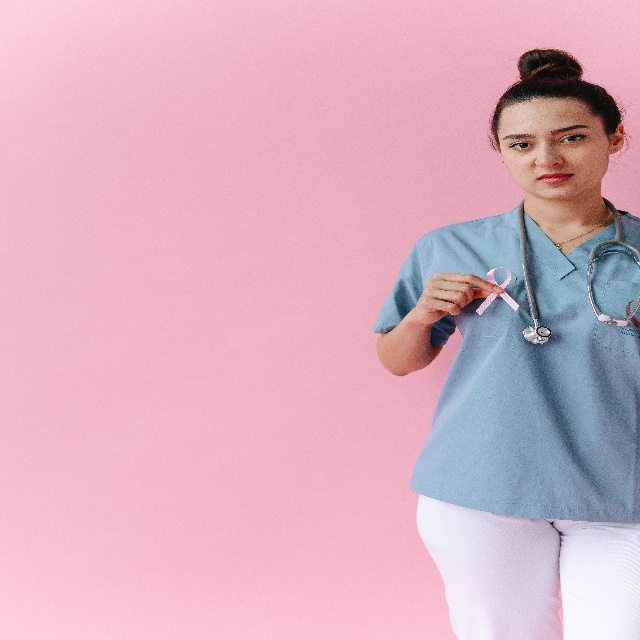Sin_guantes: (415, 271, 504, 326)
